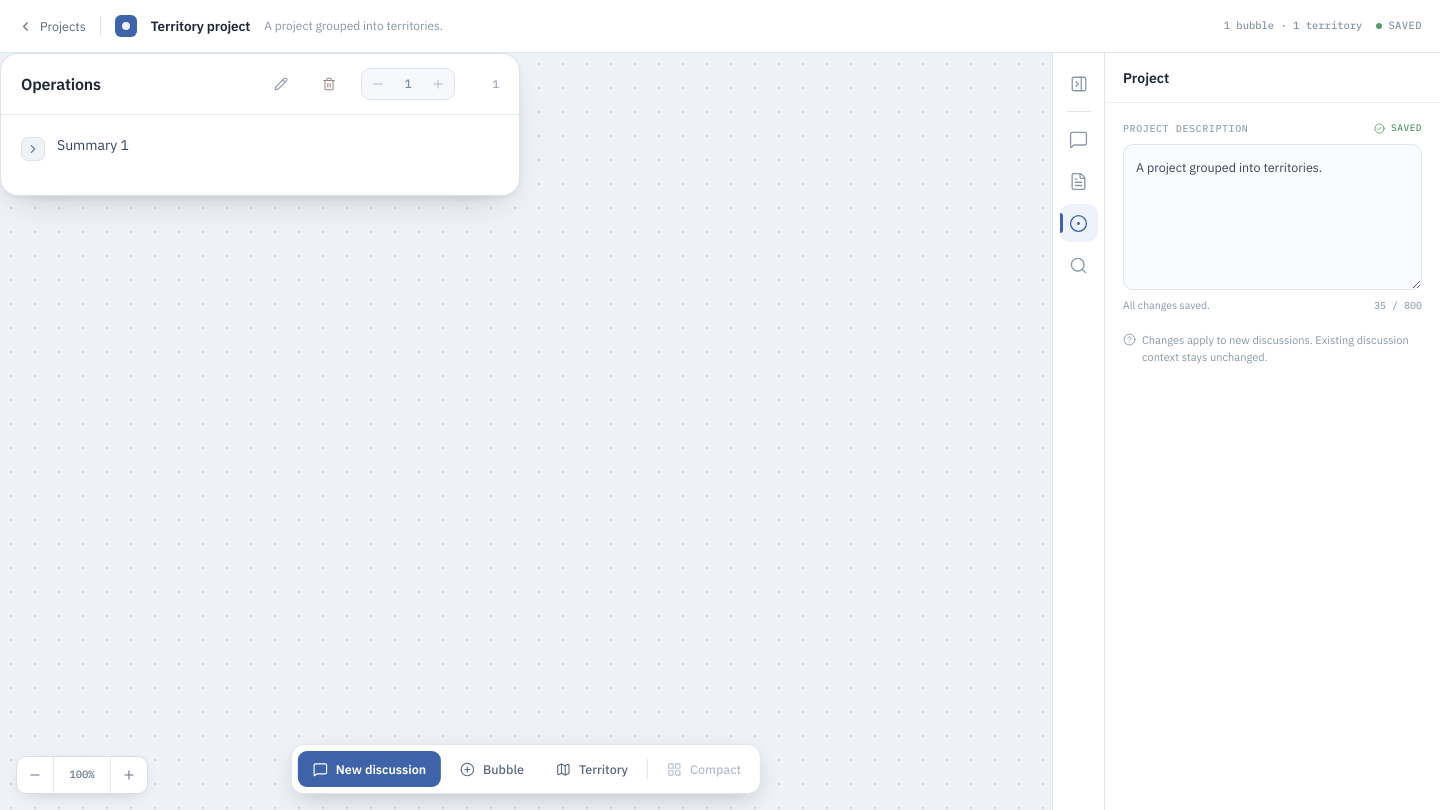
Test: ProjectWorkspace territory save status › opens the reader from the chevron and hands editing to the inspector
Click the button named "Open Bubble 1" at [33, 149], box 21,137 -> 45,161
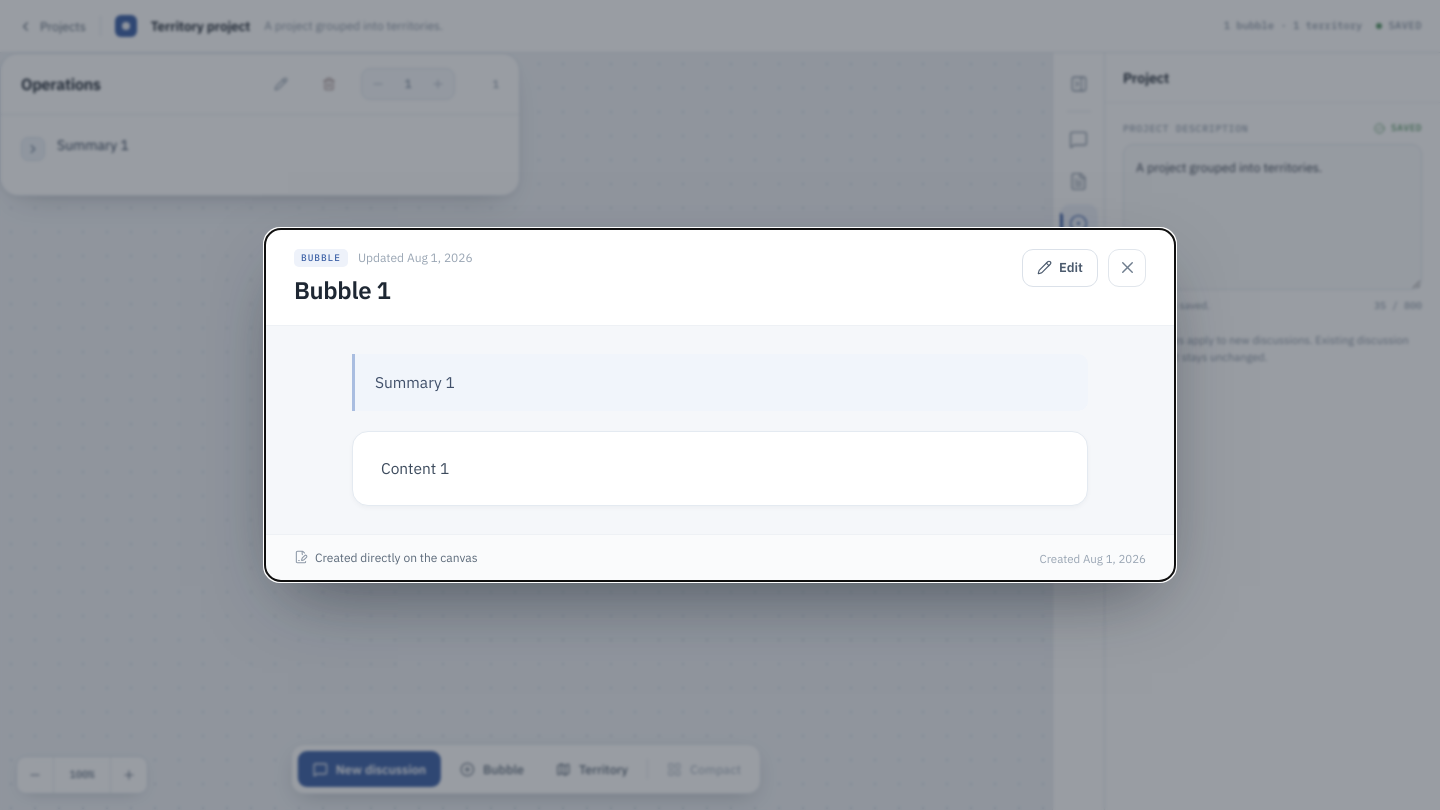
Click the button "Edit" at [1060, 268], box 1022,249 -> 1098,287
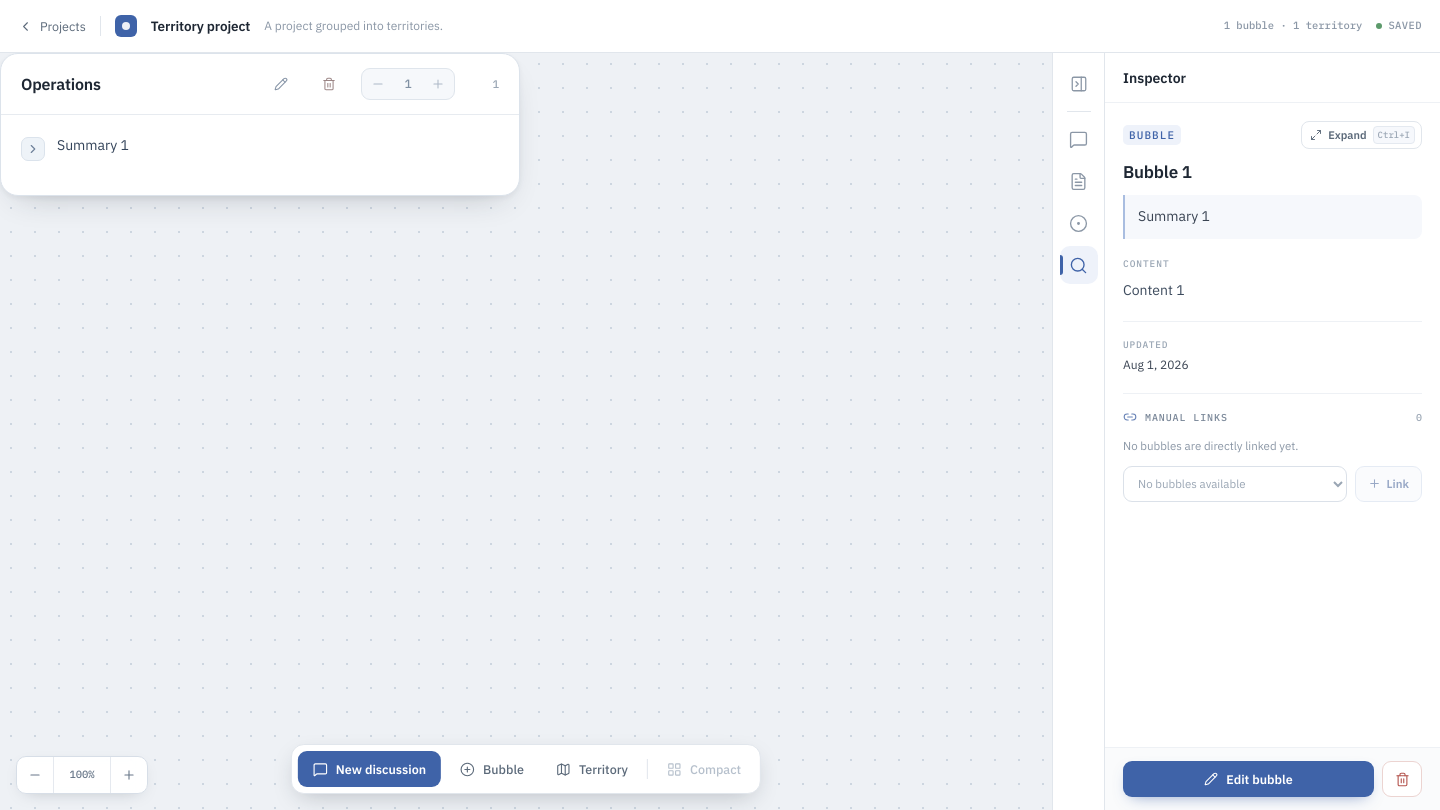
expect the dialog is gone: met
